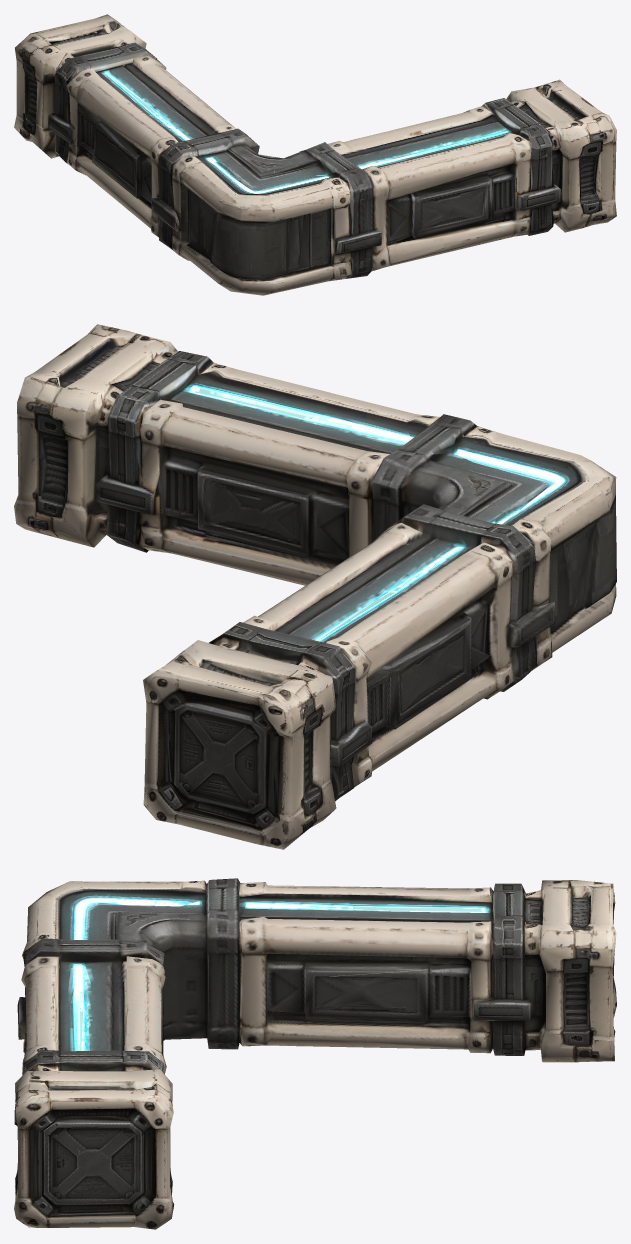
File: energy-conduit-elbow.glb
3 views of the same model, one above another, from view 1: azimuth 30°, elevation 25°; view 2: azimuth 150°, elevation 25°; view 3: azimuth 270°, elevation 25° (orthographic). The views are drawn at different scales.
Visible parts, largest first — view 1: energy-conduit-elbow; view 2: energy-conduit-elbow; view 3: energy-conduit-elbow.
Boxes of the visible parts, bbox=[...] form: energy-conduit-elbow: bbox=[14, 14, 616, 295]; energy-conduit-elbow: bbox=[14, 324, 616, 849]; energy-conduit-elbow: bbox=[14, 878, 616, 1229].
Size of the model in its own units: 3.36 by 0.9 by 3.71.
Materials: 1 (1 with a texture image).
